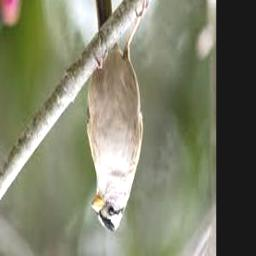Sparrow: (86, 0, 148, 231)
